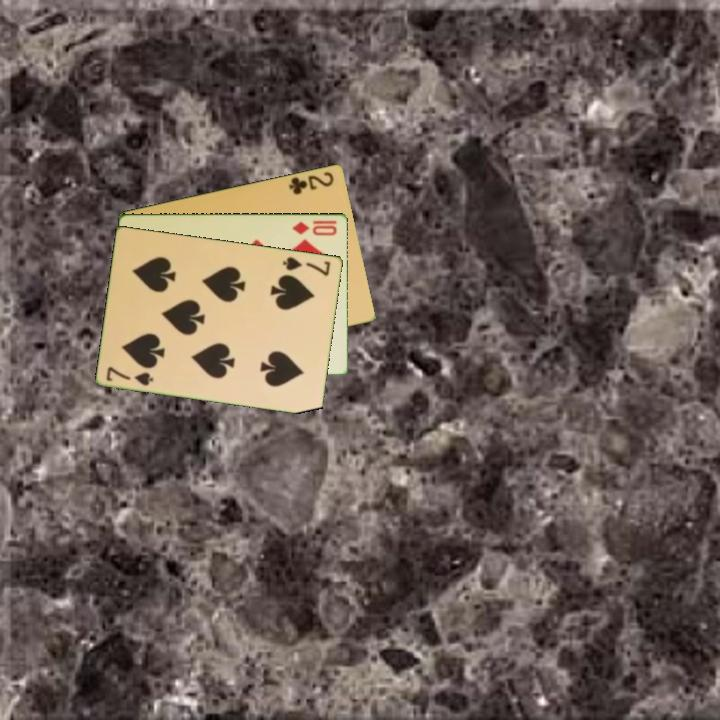10d: (289, 217, 340, 238)
2c: (285, 168, 337, 197)
7s: (279, 253, 333, 279), (103, 363, 157, 388)
